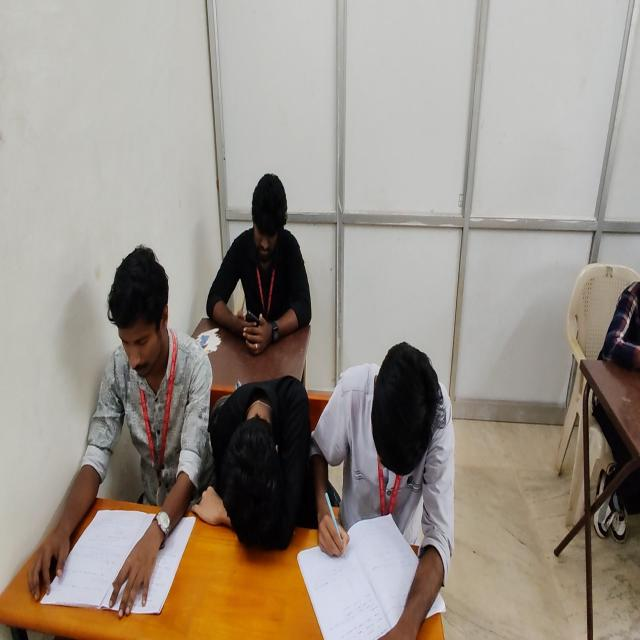reading: (26, 244, 218, 619)
sleeping: (191, 370, 337, 553)
using_mobile: (206, 172, 312, 354)
writing: (312, 342, 454, 639)
